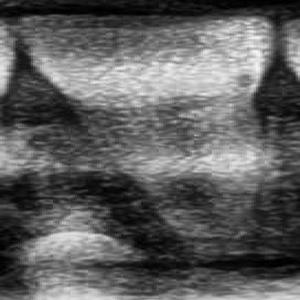tooth: (16, 11, 278, 253)
